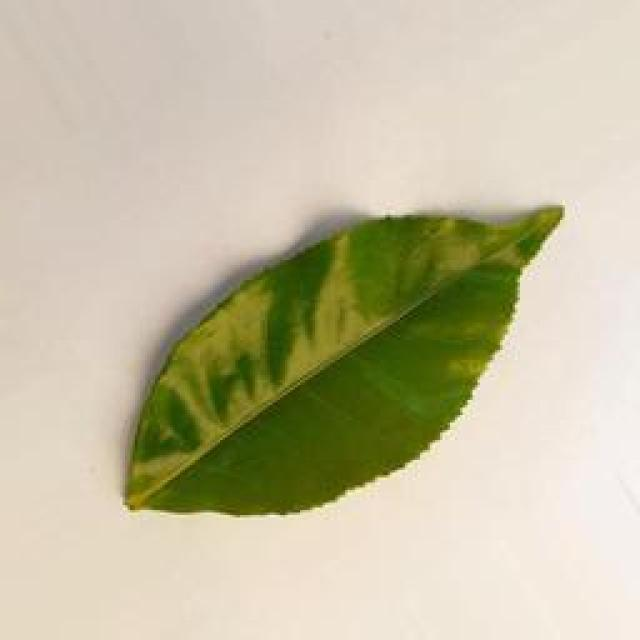Healthy: (116, 208, 588, 520)
